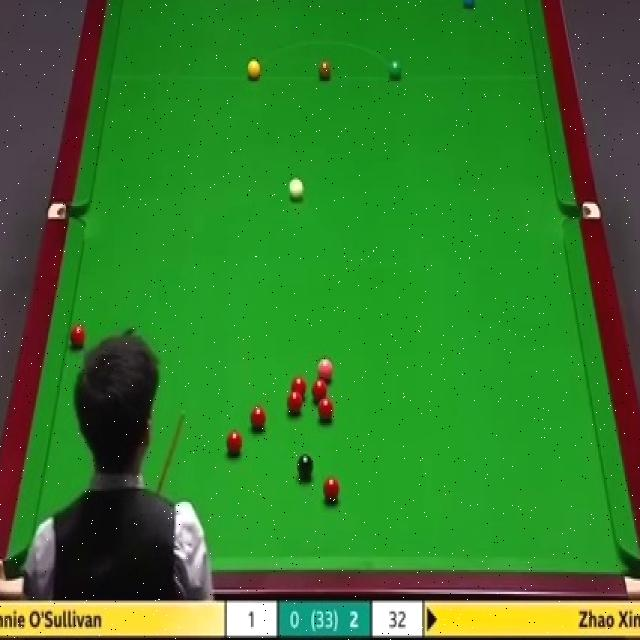black-ball: (297, 452, 315, 483)
blue-ball: (460, 0, 478, 11)
brown-ball: (318, 60, 332, 83)
green-ball: (388, 59, 403, 83)
pink-ball: (314, 356, 334, 382)
red-ball: (225, 430, 244, 460), (323, 477, 342, 504), (68, 323, 85, 350), (250, 404, 267, 430), (286, 391, 303, 417), (318, 396, 334, 422), (290, 376, 308, 398), (311, 379, 328, 401)
white-ball: (287, 175, 306, 203)
yellow-ball: (247, 58, 261, 82)
